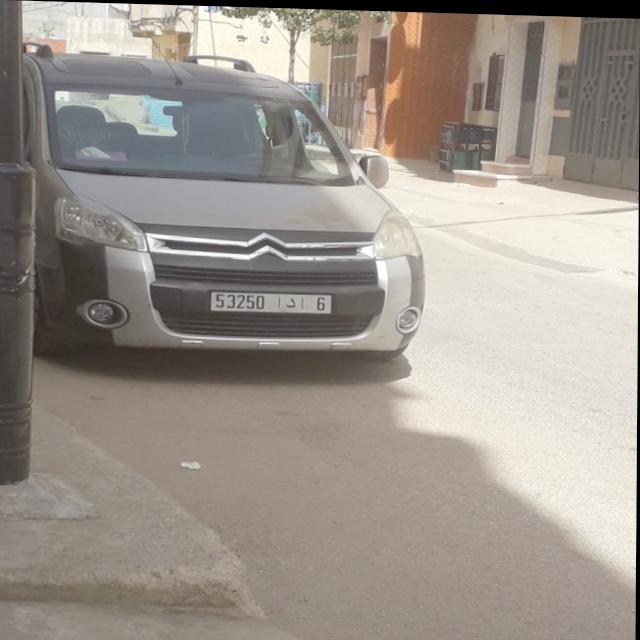License-Plate: (210, 290, 332, 311)
